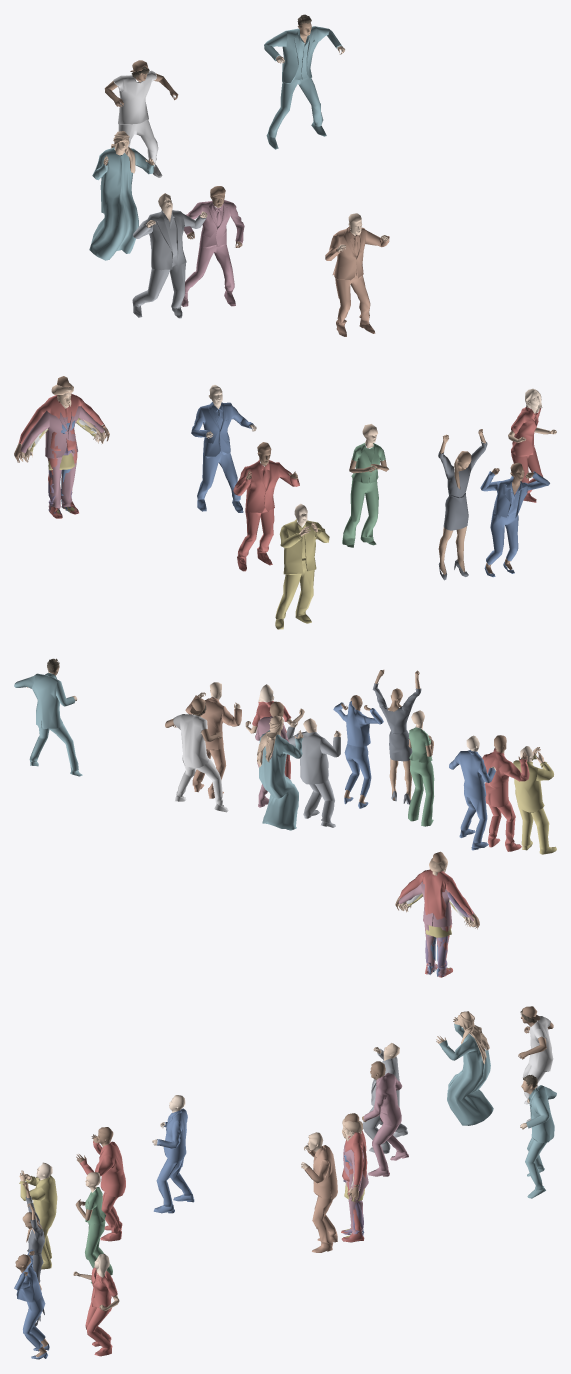
The model's file is Crowd.glb.
3 renders of one model, top to bottom at view 1: azimuth 30°, elevation 25°; view 2: azimuth 150°, elevation 25°; view 3: azimuth 270°, elevation 25°, orthographic. The views are drawn at different scales.
Visible parts, largest first — view 1: arman0004m4, cman0009m4, cman0017m4, cman0202m4, cman0016m4, bman0308m4, bman0306m4, bman0310m4, bwom0306m4, cwom0201m4, cman0011m4, bwom0311m4 (+3 smaller); view 2: arman0004m4, cman0009m4, cman0017m4, cman0011m4, cman0202m4, cman0016m4, bwom0306m4, bman0308m4, bwom0311m4, cwom0201m4, bman0306m4, cman21065m4 (+5 smaller); view 3: arman0004m4, bman0310m4, bman0308m4, bman0306m4, cman0202m4, cman0017m4, cwom0203m4, bwom0306m4, cman0016m4, cman0011m4, cwom0201m4, cman21065m4 (+3 smaller).
Part boxes in pixels (<box>): arman0004m4: <box>89,131,154,260</box>; cman0009m4: <box>132,193,207,318</box>; cman0017m4: <box>264,14,345,149</box>; cman0202m4: <box>233,442,299,571</box>; cman0016m4: <box>275,503,329,629</box>; bman0308m4: <box>191,385,256,512</box>; bman0306m4: <box>325,213,389,336</box>; bman0310m4: <box>181,186,244,306</box>; bwom0306m4: <box>480,462,549,577</box>; cwom0201m4: <box>342,424,388,547</box>; cman0011m4: <box>104,60,178,177</box>; bwom0311m4: <box>438,429,487,580</box>; arman0004m4: <box>257,715,303,830</box>; cman0009m4: <box>286,718,341,827</box>; cman0017m4: <box>14,658,82,776</box>; cman0011m4: <box>165,698,228,812</box>; cman0202m4: <box>482,735,529,851</box>; cman0016m4: <box>513,746,556,854</box>; bwom0306m4: <box>333,695,383,808</box>; bman0308m4: <box>449,735,496,850</box>; bwom0311m4: <box>372,669,421,804</box>; cwom0201m4: <box>408,710,434,826</box>; bman0306m4: <box>185,682,241,798</box>; cman21065m4: <box>395,851,479,977</box>; arman0004m4: <box>436,1011,493,1125</box>; bman0310m4: <box>362,1061,408,1176</box>; bman0308m4: <box>152,1095,194,1213</box>; bman0306m4: <box>301,1132,337,1252</box>; cman0202m4: <box>76,1127,125,1241</box>; cman0017m4: <box>520,1075,556,1198</box>; cwom0203m4: <box>73,1253,119,1356</box>; bwom0306m4: <box>14,1249,49,1359</box>; cman0016m4: <box>19,1162,57,1269</box>; cman0011m4: <box>518,1006,553,1122</box>; cwom0201m4: <box>75,1172,112,1283</box>; cman21065m4: <box>341,1113,367,1242</box>.
Size of the model in its own units: 618 by 480 by 754.
